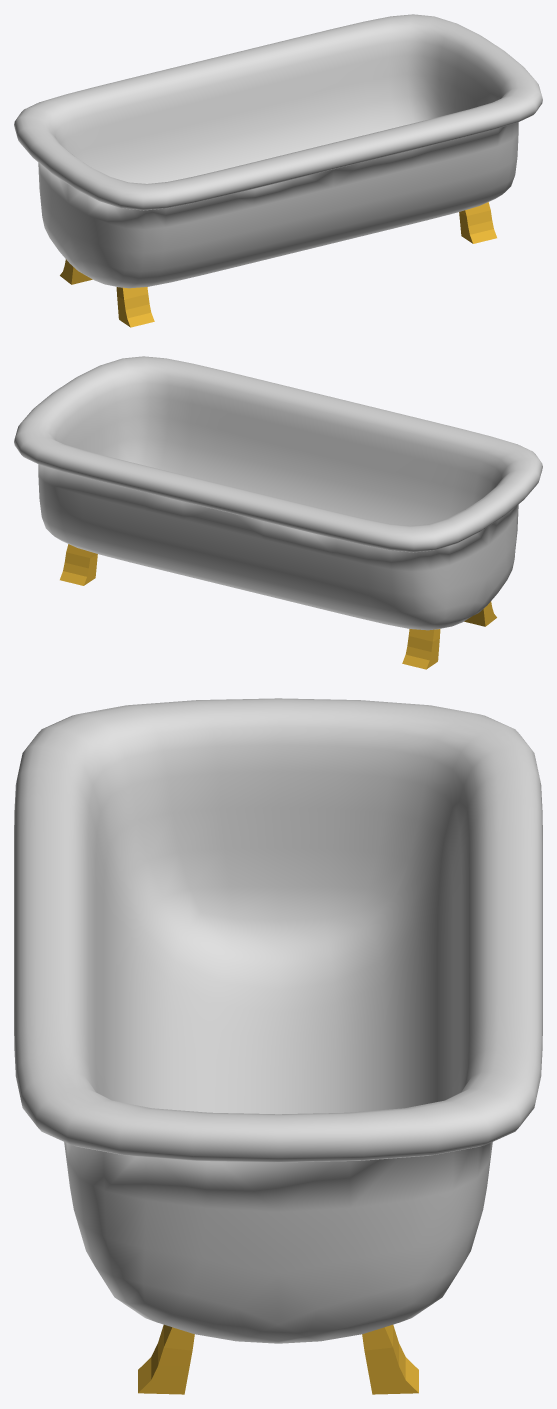
Rendered from Bañera.fbx.
3 renders of one model, top to bottom at view 1: azimuth 30°, elevation 25°; view 2: azimuth 150°, elevation 25°; view 3: azimuth 270°, elevation 25°, orthographic. The views are drawn at different scales.
Visible parts, largest first — view 1: Bañadera; view 2: Bañadera; view 3: Bañadera.
Part boxes in pixels (x1,y1,x2,y2): Bañadera: (14, 14, 542, 327); Bañadera: (14, 356, 542, 669); Bañadera: (14, 698, 542, 1394).
Bounding box in the file's own units: 737 × 239 × 374.
